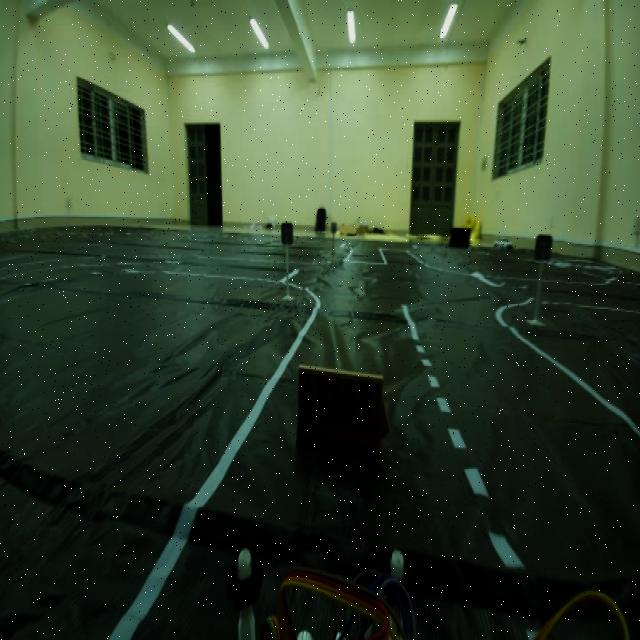roadblock: (295, 357, 397, 476)
